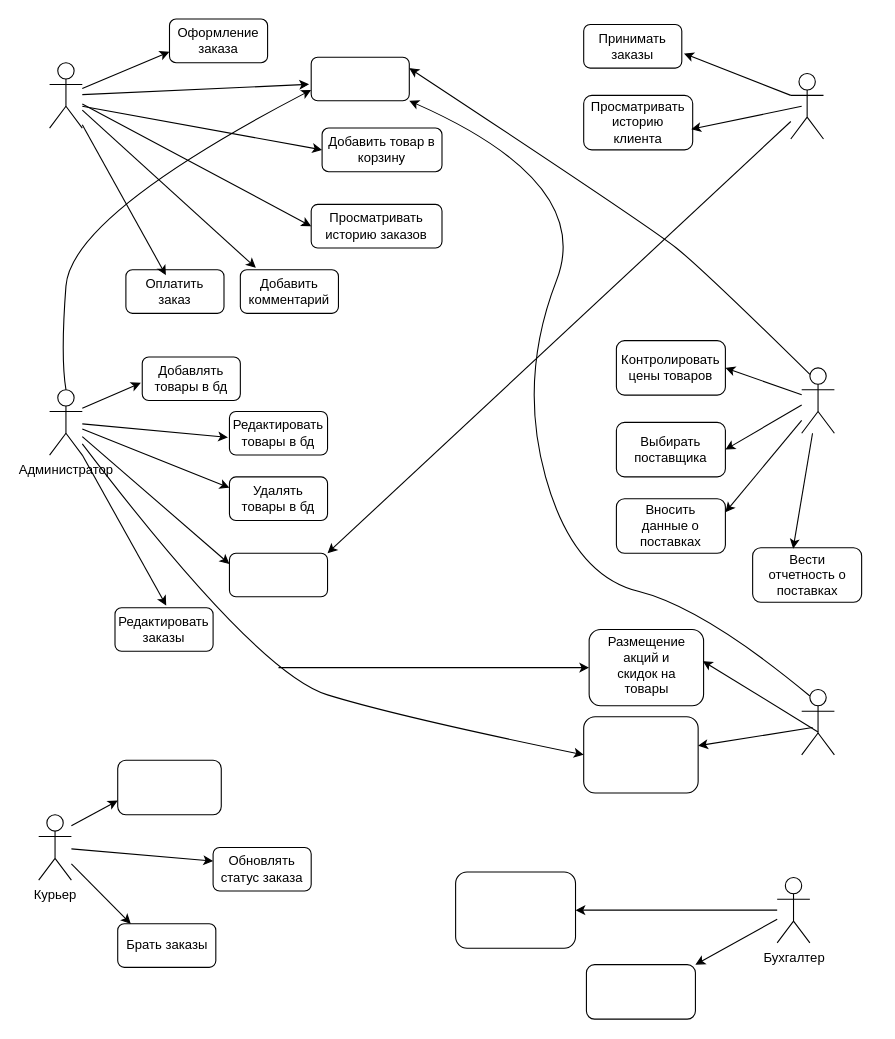
Image size: 895x1039. Some labels were removed from this diagram. Here are the shapes that lost their labels. From the top down, the box of each, then its label:
(49, 62, 82, 128): Клиент
(310, 56, 409, 101): Просматривать товары
(790, 72, 823, 139): Оператор колл-центра
(801, 367, 834, 433): Менеджер
(228, 552, 328, 597): Просматривать заказы
(801, 688, 834, 755): Маркетолог
(583, 716, 698, 793): Удаление акций и скидок на товары
(117, 759, 221, 815): Просматривать расписание заказов
(455, 871, 576, 948): Вести учет доходов и расходов
(585, 964, 695, 1019): Формировать финансовые отчеты
